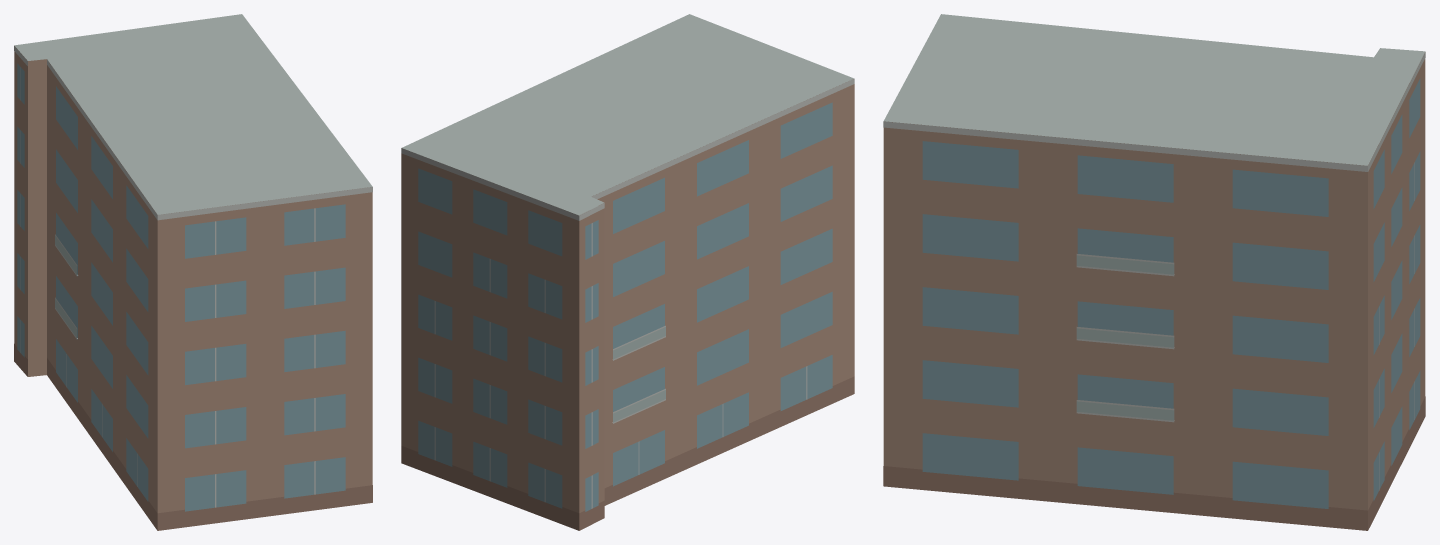
File: survey-upis-32765797.glb
The picture shows the model from 3 angles, left to right: view 1: azimuth 30°, elevation 25°; view 2: azimuth 150°, elevation 25°; view 3: azimuth 270°, elevation 25°; orthographic projection. The views are drawn at different scales.
Parts seen in each view (by area): view 1: survey-upis-32765797.tmp; view 2: survey-upis-32765797.tmp; view 3: survey-upis-32765797.tmp.
Boxes of the visible parts, bbox=[...] form: survey-upis-32765797.tmp: bbox=[14, 14, 372, 530]; survey-upis-32765797.tmp: bbox=[401, 14, 854, 530]; survey-upis-32765797.tmp: bbox=[883, 14, 1425, 530].
Bounding box in the file's own units: 12.67 × 14.2 × 19.12.
